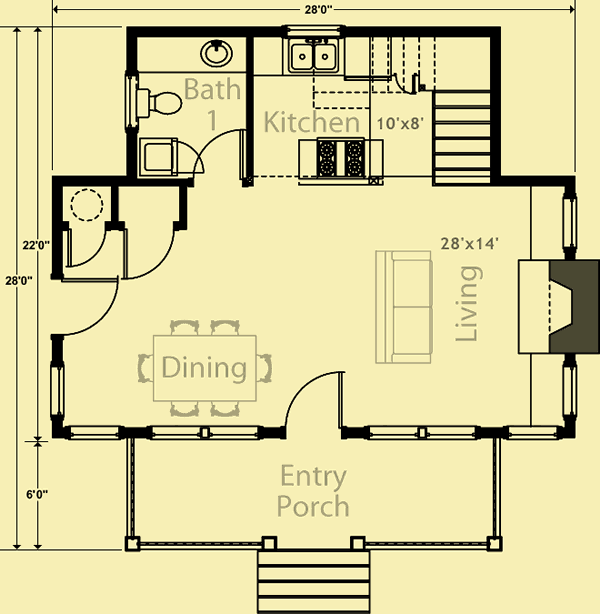hall has a dining table with other sitting facility: (46, 272, 295, 446)
kitchen has a kitchen counter which has a cooking range and twin sink: (248, 27, 434, 193)
livingroom has a large couch: (343, 185, 520, 445)
there is a bathroom which has a small and large sink: (125, 24, 255, 181)
